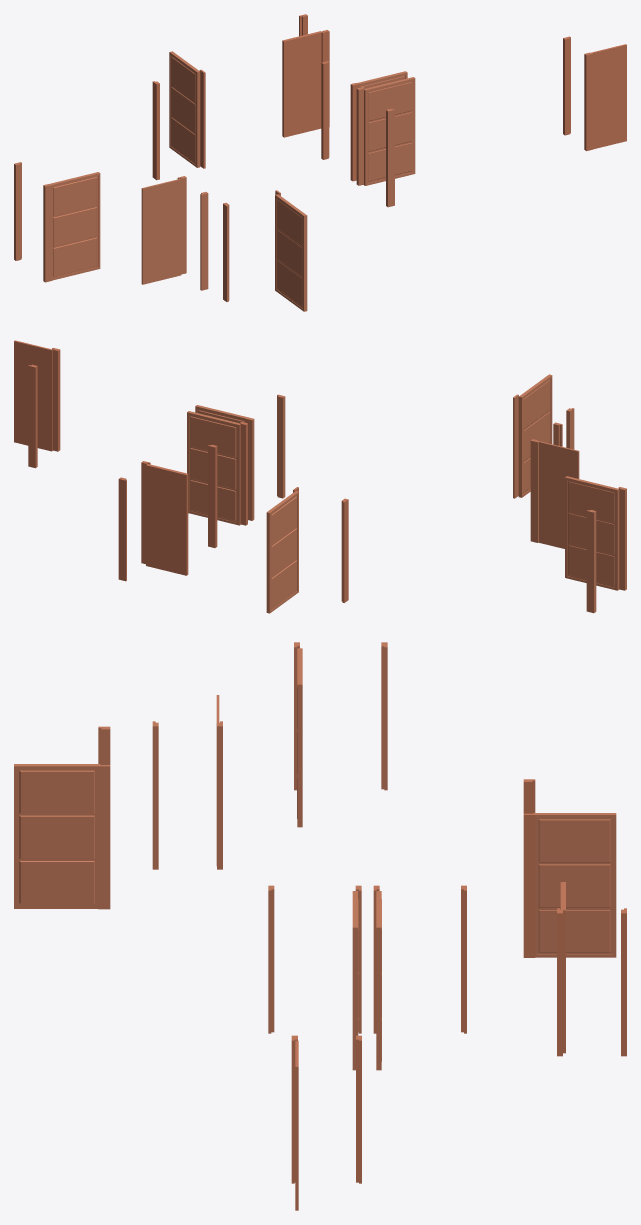
Rendered from Door.fbx.
3 renders of one model, top to bottom at view 1: azimuth 30°, elevation 25°; view 2: azimuth 150°, elevation 25°; view 3: azimuth 270°, elevation 25°, orthographic. The views are drawn at different scales.
Parts seen in each view (by area): view 1: Plane.031, Plane.034, Cube.071, Cube.069, Plane.027, Cube.070, Cube.067, Plane.032, Plane.030, Plane.029, Plane.028, Plane.033; view 2: Plane.027, Plane.034, Cube.071, Cube.068, Plane.031, Cube.067, Cube.070, Plane.032, Plane.029, Plane.030, Plane.033, Plane.028 (+1 smaller); view 3: Cube.070, Cube.067, Plane.033, Plane.027, Plane.028, Plane.034, Plane.031, Plane.030, Plane.032, Plane.029, Cube.069, Cube.071 (+1 smaller).
Part boxes in pixels (x1,y1,x2,y2): Plane.031: (141,176,208,290); Plane.034: (563,36,626,151); Cube.071: (49,172,100,280); Cube.069: (363,77,415,185); Plane.027: (282,14,329,137); Cube.070: (275,194,307,311); Cube.067: (169,51,200,167); Plane.032: (14,162,52,282); Plane.030: (356,87,394,207); Plane.029: (321,61,359,181); Plane.028: (152,69,205,180); Plane.033: (223,190,280,301); Plane.027: (118,461,188,581); Plane.034: (14,340,60,468); Cube.071: (565,476,619,590); Cube.068: (187,411,240,525); Plane.031: (530,422,579,548); Cube.067: (266,491,298,613); Cube.070: (518,374,552,497); Plane.032: (586,487,626,613); Plane.029: (208,422,247,547); Plane.030: (245,394,285,520); Plane.033: (513,394,574,498); Plane.028: (293,487,348,602); Cube.070: (14,764,100,908); Cube.067: (533,813,616,957); Plane.033: (98,726,110,909); Plane.027: (557,882,626,1056); Plane.028: (523,779,535,957); Plane.034: (291,1035,361,1210); Plane.031: (152,695,222,869); Plane.030: (268,885,361,1033); Plane.032: (294,642,387,790); Plane.029: (373,885,466,1033); Cube.069: (352,891,358,1070); Cube.071: (297,648,302,827).
Size of the model in its own units: 2039 by 324 by 1247.
